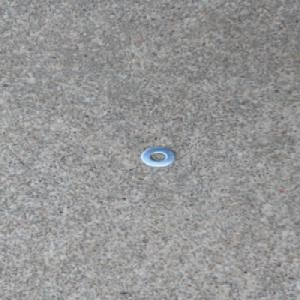Washer: (139, 146, 176, 167)
